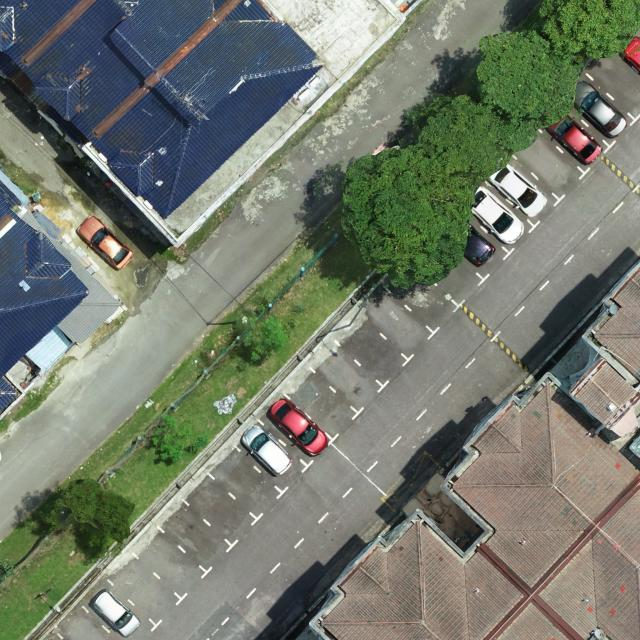tree: (342, 145, 478, 291), (402, 92, 538, 182), (476, 27, 582, 130), (538, 0, 640, 61), (44, 478, 136, 544), (152, 414, 210, 464), (234, 314, 291, 363)
